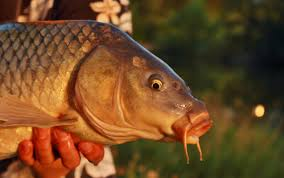carp: (1, 20, 215, 164)
